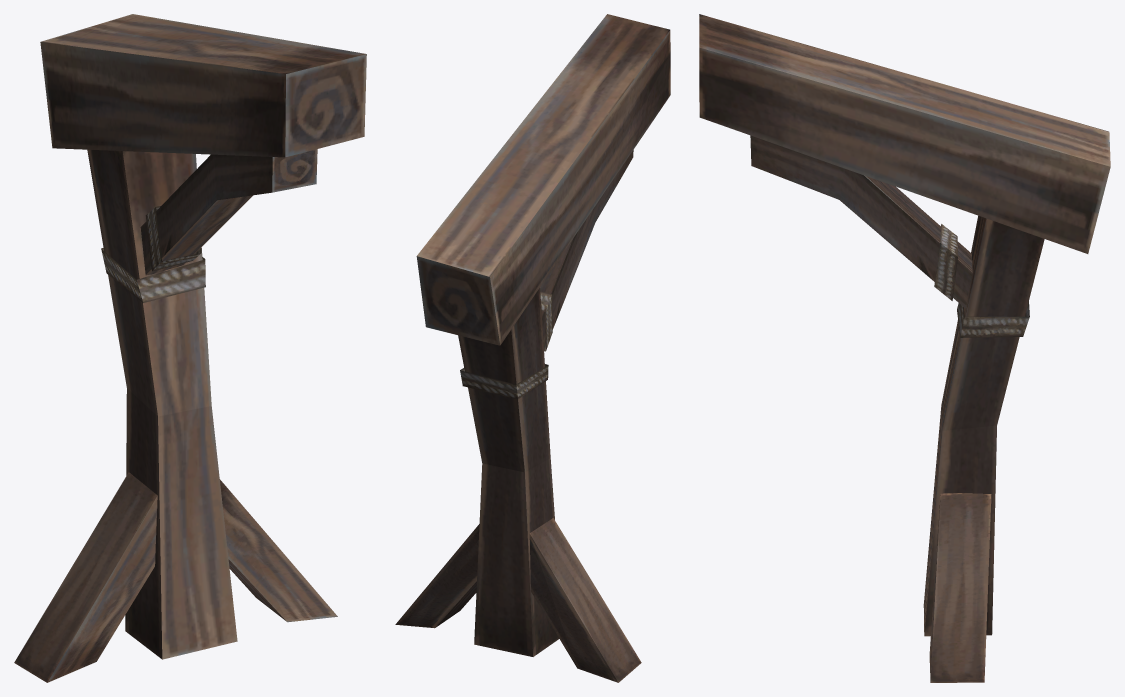
The model's file is mine_support_01.fbx.
3 views of the same model, side by side, from view 1: azimuth 30°, elevation 25°; view 2: azimuth 150°, elevation 25°; view 3: azimuth 270°, elevation 25° (orthographic). The views are drawn at different scales.
Parts seen in each view (by area): view 1: obj0.074; view 2: obj0.074; view 3: obj0.074.
Boxes of the visible parts, x1=… form: obj0.074: x1=14, y1=14, x2=366, y2=682; obj0.074: x1=395, y1=14, x2=670, y2=682; obj0.074: x1=699, y1=14, x2=1110, y2=682.
Size of the model in its own units: 2.79 by 6.33 by 3.99.
